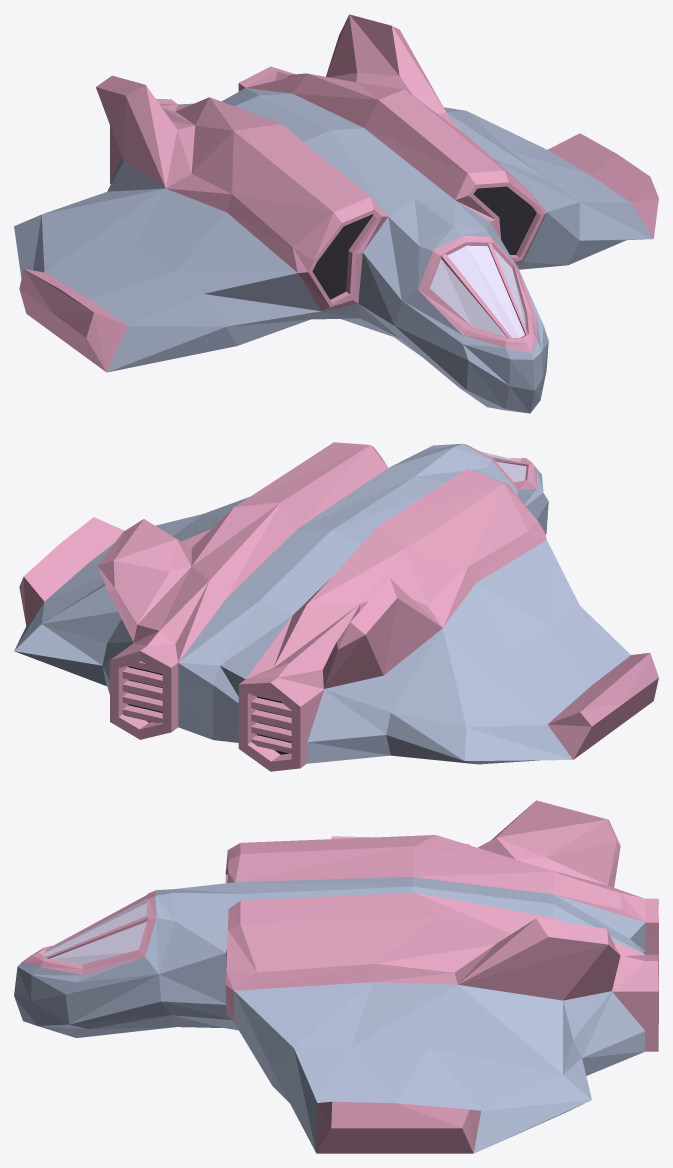
File: spaceship-vulcan.glb
3 views of the same model, one above another, from view 1: azimuth 30°, elevation 25°; view 2: azimuth 150°, elevation 25°; view 3: azimuth 270°, elevation 25° (orthographic). The views are drawn at different scales.
Parts seen in each view (by area): view 1: spaceship-vulcan_0_0.05, outer, glass, inner; view 2: outer, spaceship-vulcan_0_0.05; view 3: spaceship-vulcan_0_0.05, outer, glass.
Boxes of the visible parts, x1,y1,x2,y2 form: spaceship-vulcan_0_0.05: (14, 88, 653, 413); outer: (19, 14, 658, 372); glass: (430, 245, 526, 338); inner: (312, 186, 536, 299); outer: (19, 442, 658, 771); spaceship-vulcan_0_0.05: (14, 443, 630, 764); spaceship-vulcan_0_0.05: (14, 876, 645, 1153); outer: (22, 800, 658, 1153); glass: (42, 898, 147, 964).
Size of what is drawn, in the model's own units: 18.06 by 5.5 by 18.02.
